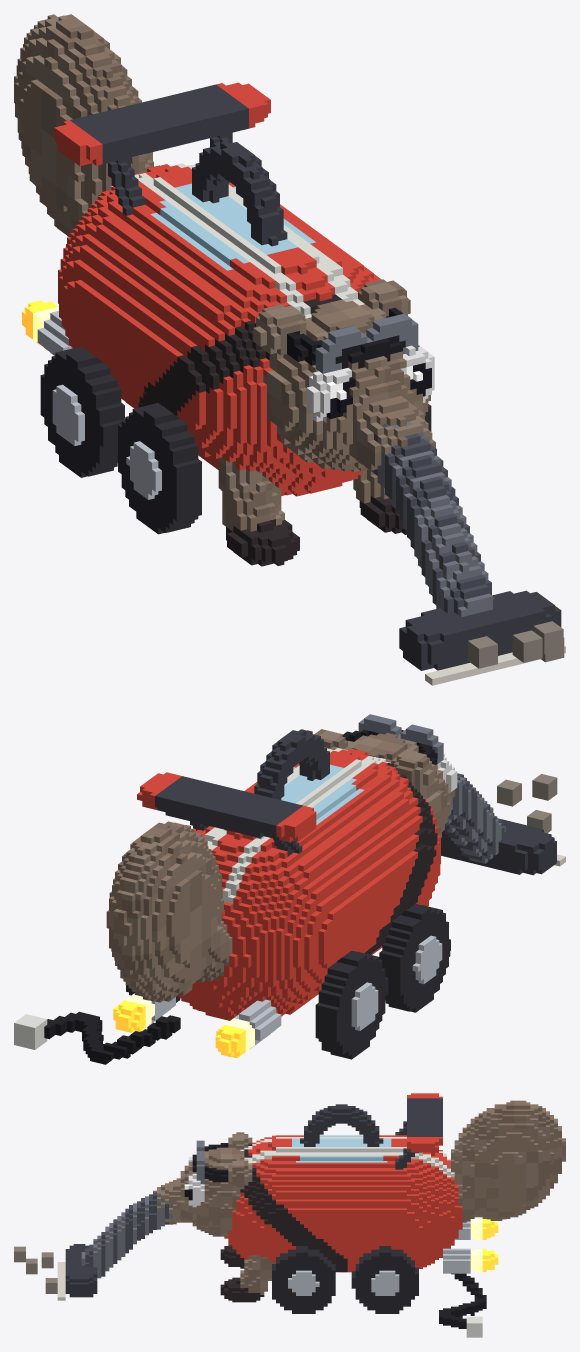
The model's file is aspirapolvere_formichiere.glb.
3 renders of one model, top to bottom at view 1: azimuth 30°, elevation 25°; view 2: azimuth 150°, elevation 25°; view 3: azimuth 270°, elevation 25°, orthographic. The views are drawn at different scales.
Visible parts, largest first — view 1: SM_Brainrot_aspirapolvere_formichiere; view 2: SM_Brainrot_aspirapolvere_formichiere; view 3: SM_Brainrot_aspirapolvere_formichiere.
Boxes of the visible parts, bbox=[...] form: SM_Brainrot_aspirapolvere_formichiere: bbox=[14, 14, 565, 685]; SM_Brainrot_aspirapolvere_formichiere: bbox=[14, 714, 565, 1064]; SM_Brainrot_aspirapolvere_formichiere: bbox=[14, 1093, 565, 1337].
Bounding box in the file's own units: 3.18 × 3 × 8.34.
Materials: 1 (1 with a texture image).
